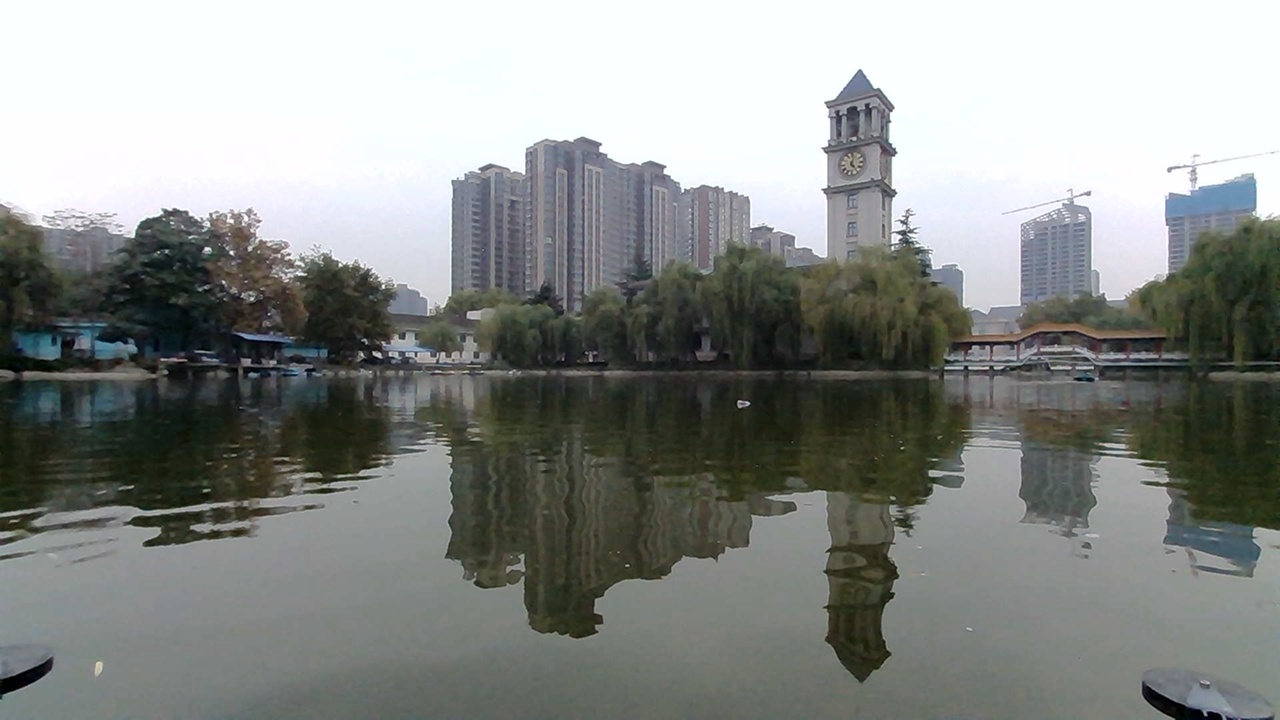bottle: (721, 388, 760, 418)
